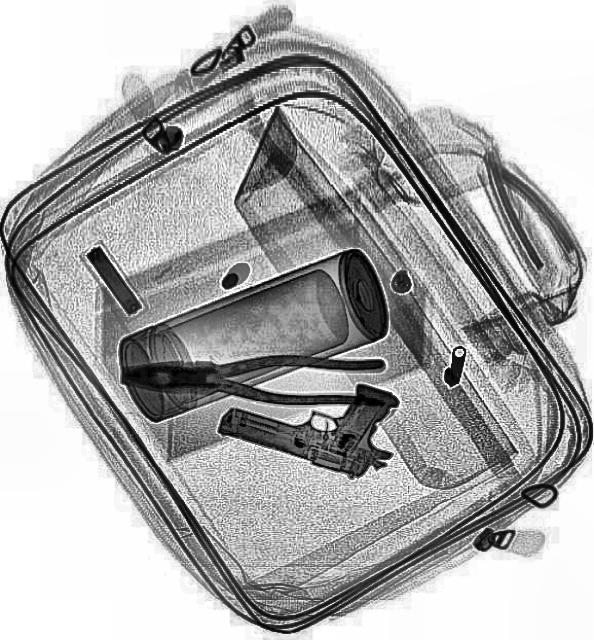Gun: (214, 344, 411, 488)
Pliers: (119, 349, 399, 406)
